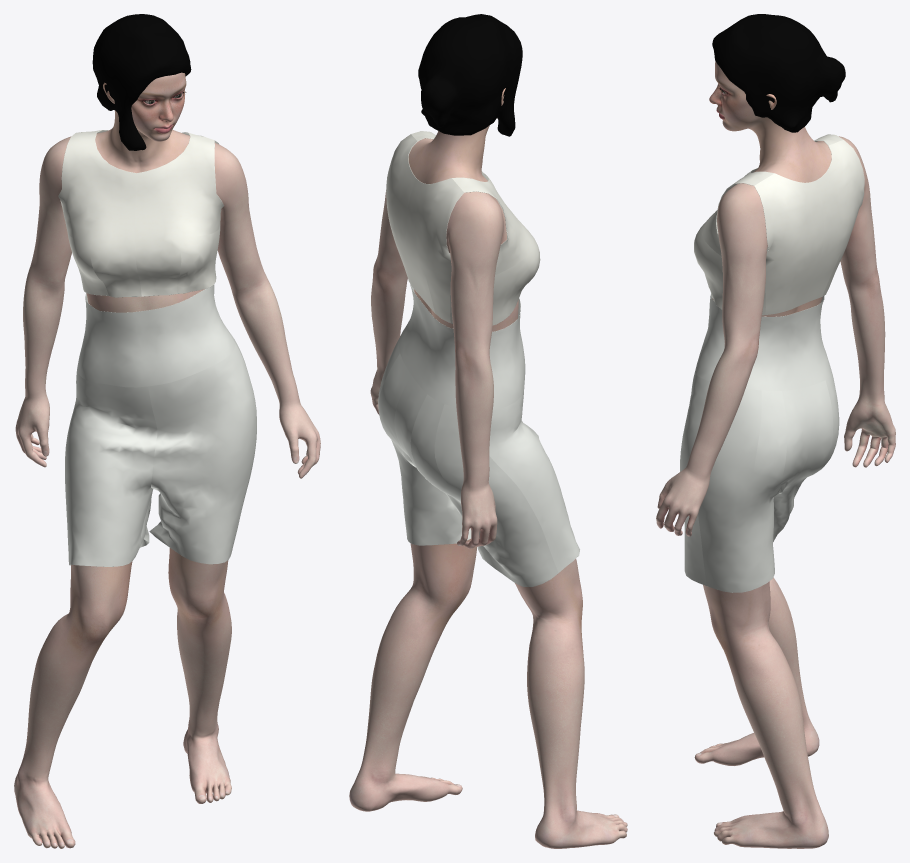
File: Dynamic_2.obj
3 views of the same model, side by side, from view 1: azimuth 30°, elevation 25°; view 2: azimuth 150°, elevation 25°; view 3: azimuth 270°, elevation 25° (orthographic). The views are drawn at different scales.
Bounding box in the file's own units: 612 × 1724 × 471.
